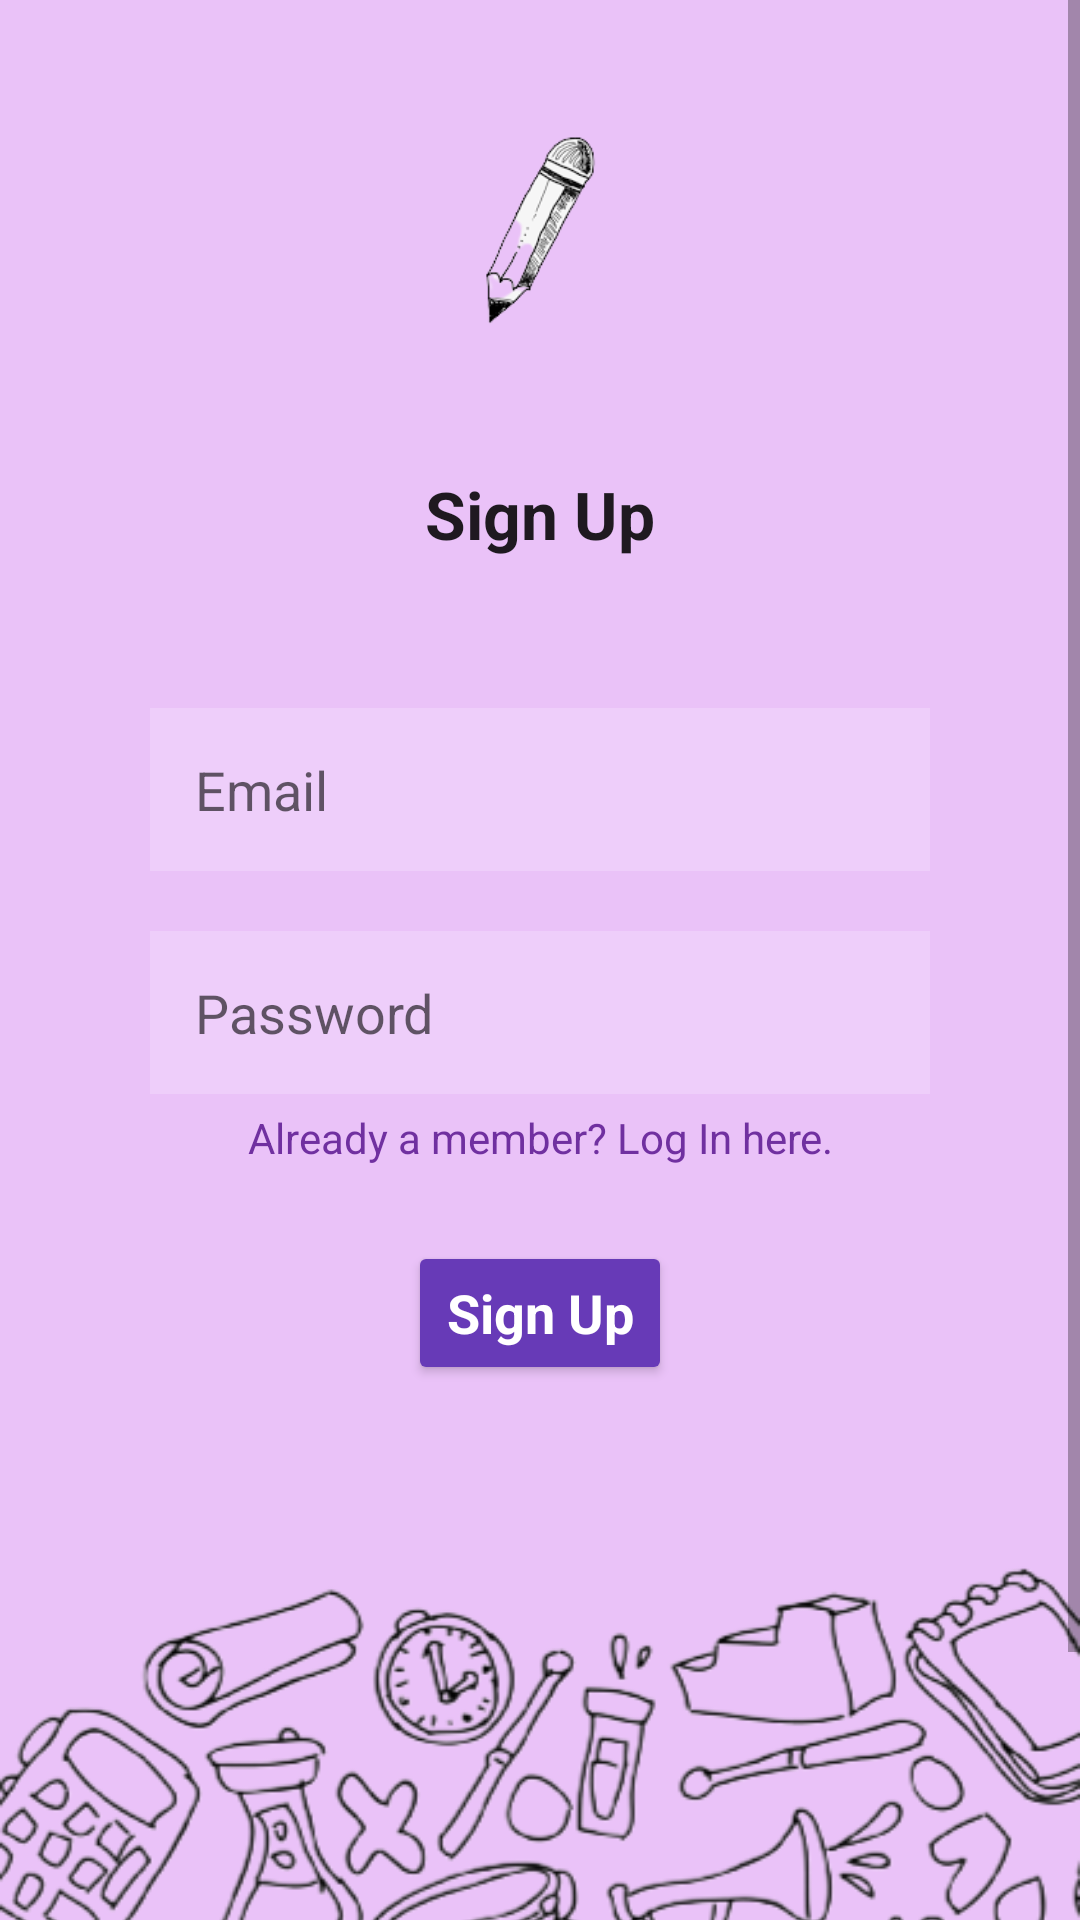

Screen size 1080×1920. Icon name, then its box in pixels as (x1, y1, x2, y2):
pencil: (486, 137, 595, 323)
